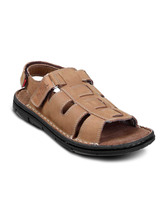shoes: (12, 53, 155, 158)
